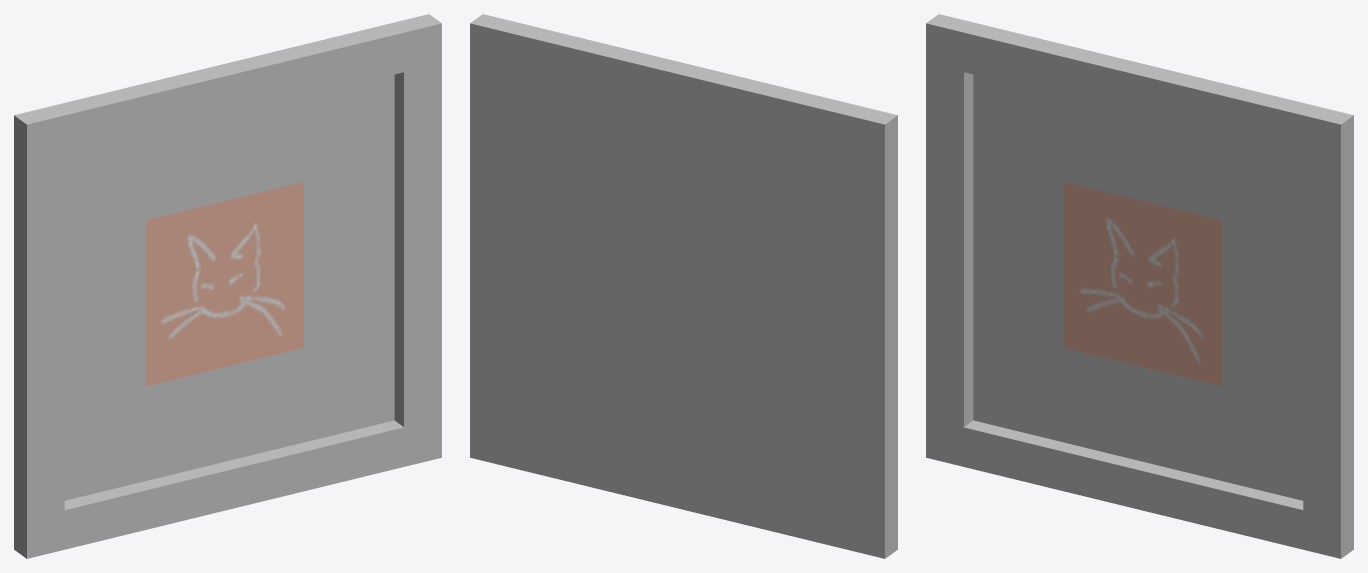
File: SM_Props_Photo_01.fbx
3 views of the same model, side by side, from view 1: azimuth 30°, elevation 25°; view 2: azimuth 150°, elevation 25°; view 3: azimuth 330°, elevation 25° (orthographic).
Parts seen in each view (by area): view 1: SM_Props_Photo_01; view 2: SM_Props_Photo_01; view 3: SM_Props_Photo_01.
Boxes of the visible parts, box(x1,y1,x2,y2) form: SM_Props_Photo_01: box(14, 14, 441, 558); SM_Props_Photo_01: box(470, 14, 897, 558); SM_Props_Photo_01: box(926, 14, 1353, 558).
Size of the model in its own units: 0.2585 by 0.2585 by 0.0139.
